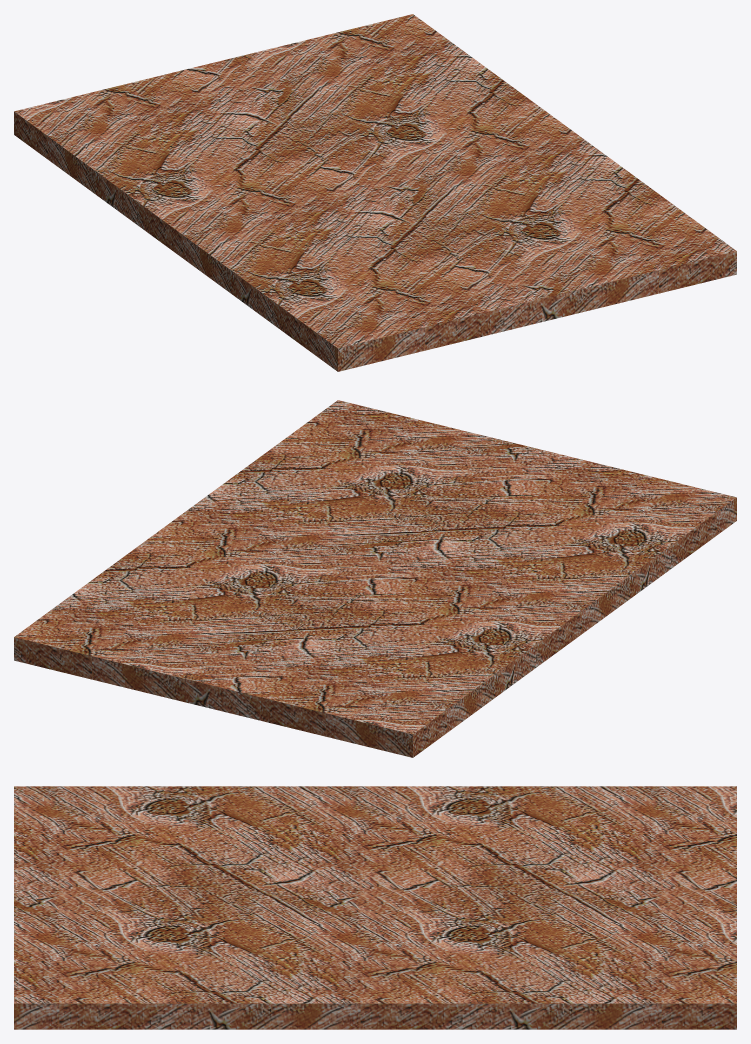
File: slab.glb
3 views of the same model, one above another, from view 1: azimuth 30°, elevation 25°; view 2: azimuth 150°, elevation 25°; view 3: azimuth 270°, elevation 25° (orthographic). The views are drawn at different scales.
Parts seen in each view (by area): view 1: slab; view 2: slab; view 3: slab.
Boxes of the visible parts, x1,y1,x2,y2 form: slab: [14, 14, 736, 371]; slab: [14, 400, 736, 757]; slab: [14, 786, 736, 1029].
Bounding box in the file's own units: 27.31 × 1.53 × 38.41.
Materials: 1 (1 with a texture image).
